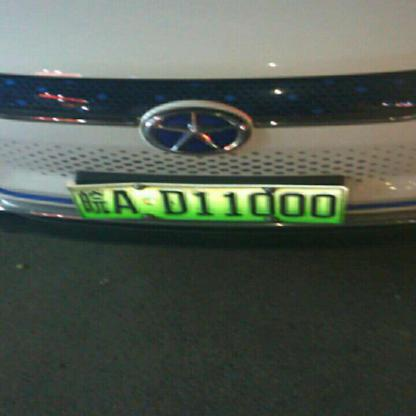lp: (71, 191, 342, 224)
